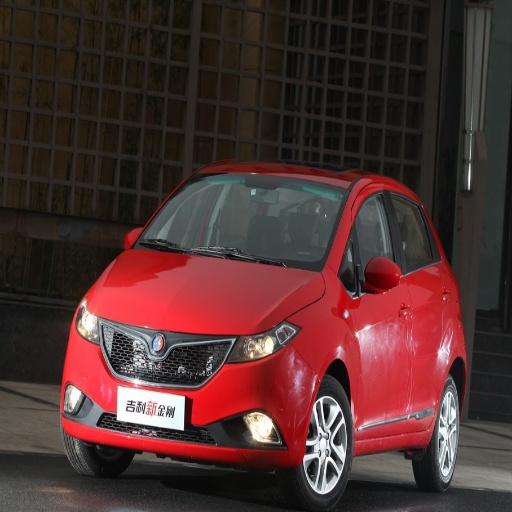front_bumper: (65, 319, 319, 469)
front_glass: (134, 174, 349, 271)
front_left_door: (347, 184, 409, 438)
